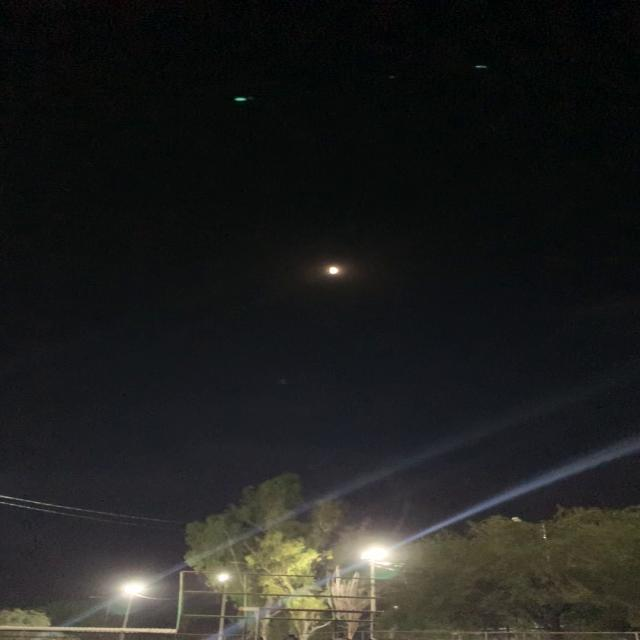moon: (310, 257, 358, 287)
